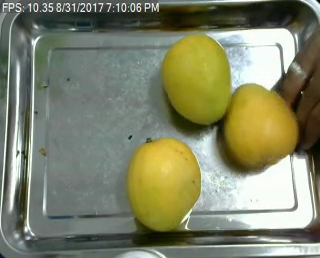Mango: (123, 130, 210, 240), (159, 32, 236, 132), (221, 80, 297, 176)
